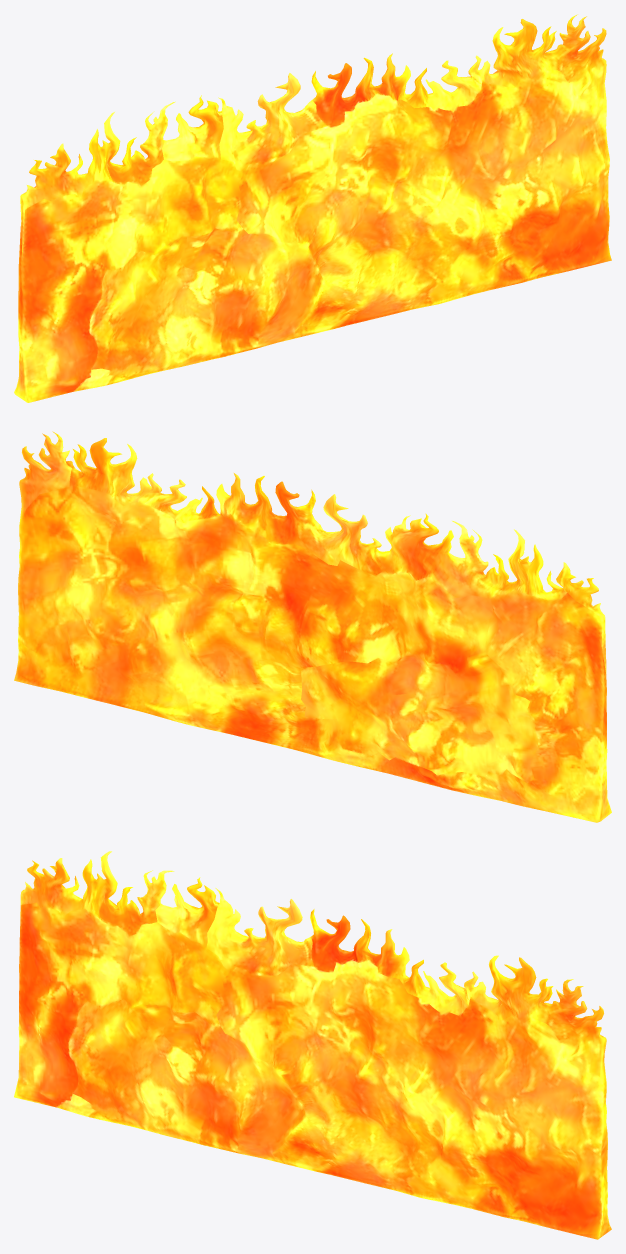
The model's file is MZ4250 - Wall of Fire.glb.
The picture shows the model from 3 angles, top to bottom: view 1: azimuth 30°, elevation 25°; view 2: azimuth 150°, elevation 25°; view 3: azimuth 330°, elevation 25°; orthographic projection.
Parts seen in each view (by area): view 1: Wall of Fire.005; view 2: Wall of Fire.005; view 3: Wall of Fire.005.
Part boxes in pixels (<box>): Wall of Fire.005: <box>14,14,611,402</box>; Wall of Fire.005: <box>14,431,611,822</box>; Wall of Fire.005: <box>14,851,611,1239</box>.
Size of the model in its own units: 7.1 by 3.07 by 0.681.
Materials: 1 (1 with a texture image).
